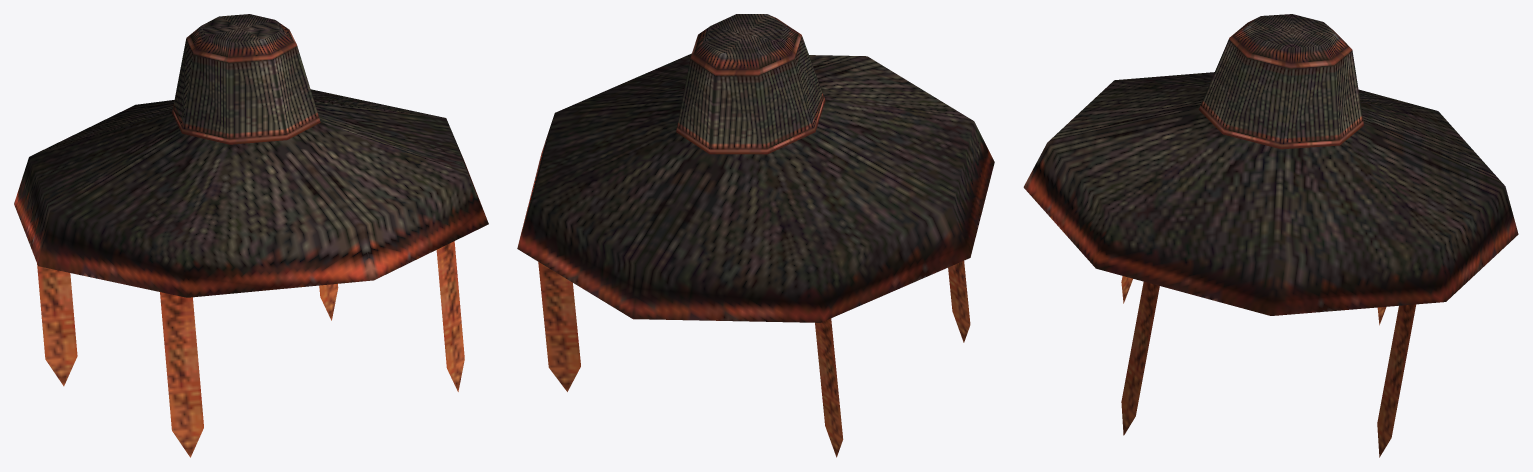
Rendered from clothes_03_ha.glb.
3 renders of one model, left to right at view 1: azimuth 30°, elevation 25°; view 2: azimuth 150°, elevation 25°; view 3: azimuth 270°, elevation 25°, orthographic.
Visible parts, largest first — view 1: clothes_03_ha, clothes_03_ha_2s; view 2: clothes_03_ha, clothes_03_ha_2s; view 3: clothes_03_ha, clothes_03_ha_2s.
Part boxes in pixels (x1,y1,x2,y2): clothes_03_ha: (14, 14, 488, 297); clothes_03_ha_2s: (37, 241, 464, 457); clothes_03_ha: (517, 14, 994, 322); clothes_03_ha_2s: (538, 261, 970, 457); clothes_03_ha: (1023, 14, 1518, 315); clothes_03_ha_2s: (1121, 276, 1416, 457).
Bounding box in the file's own units: 0.5479 × 0.4433 × 0.5449.
Materials: 2 (2 with a texture image).
